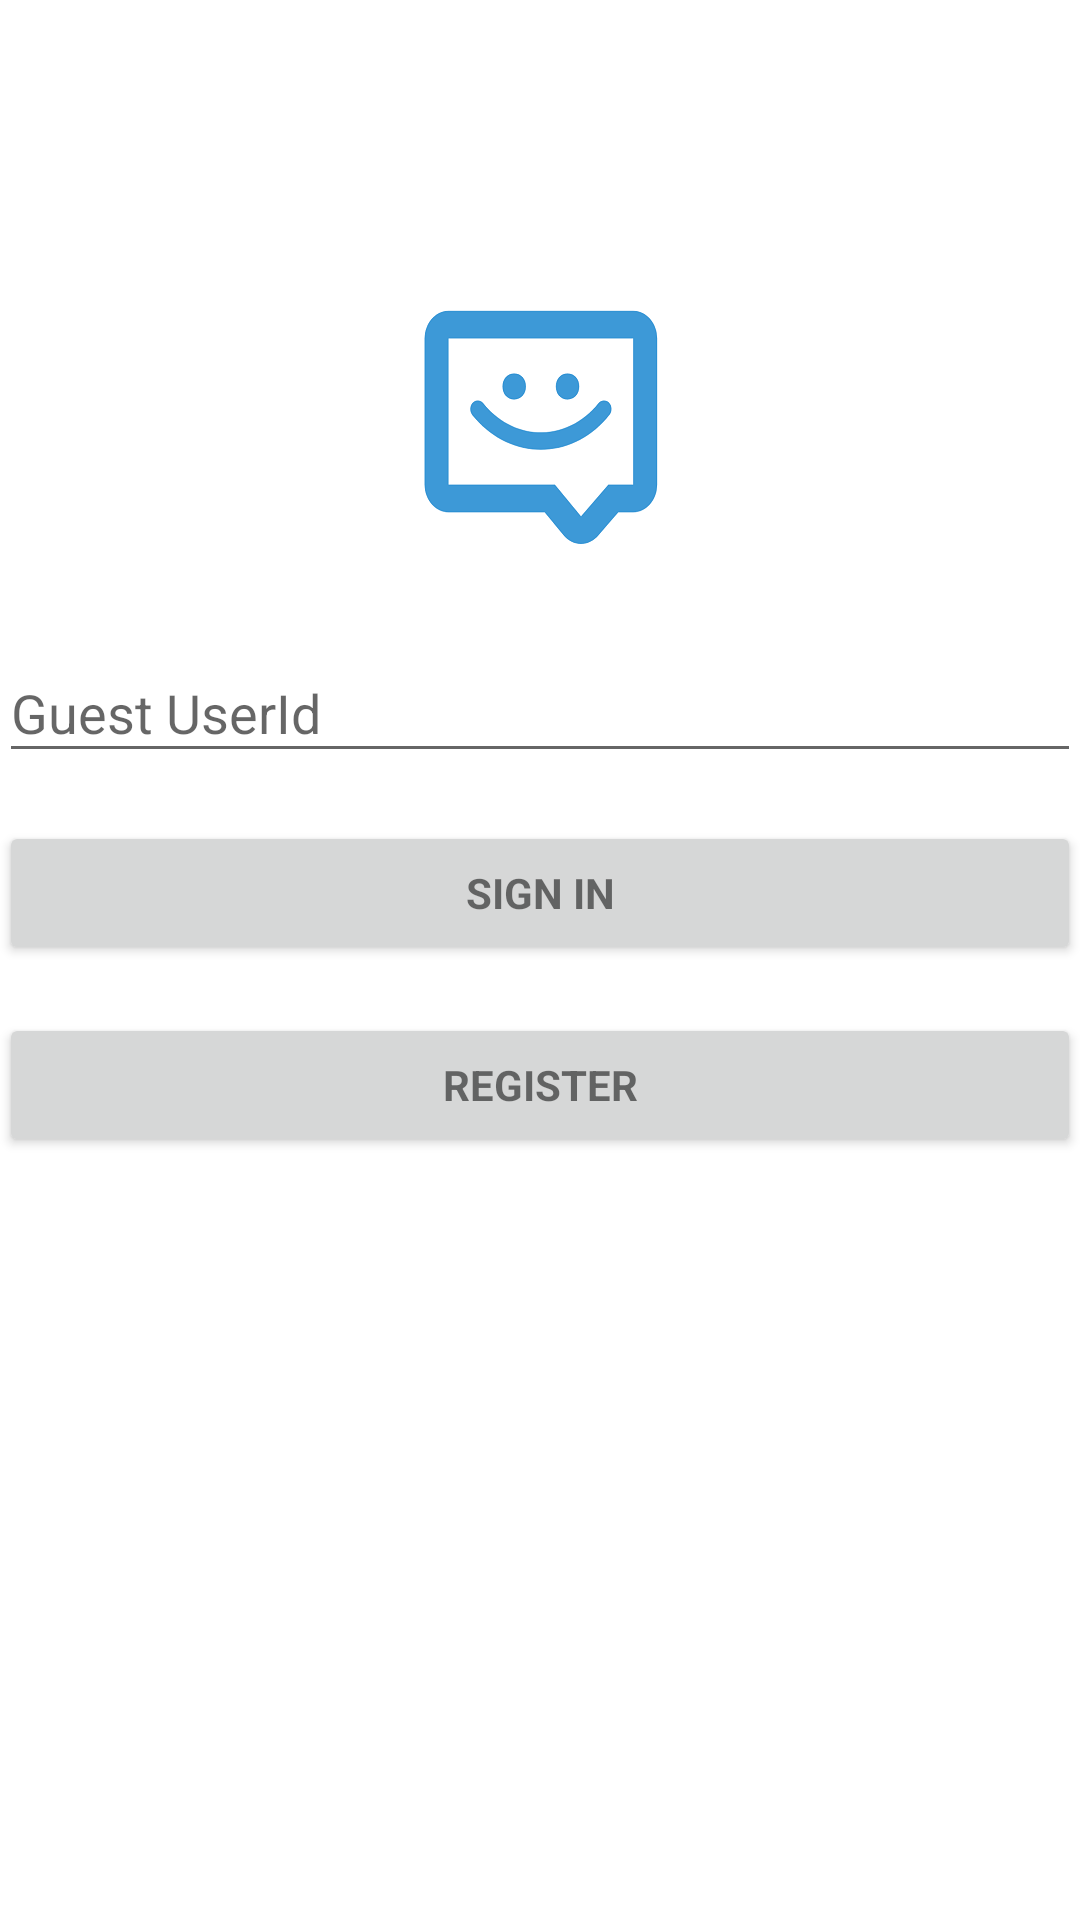

Icon click points for this 1080px×1920px phone screenshot, format point (x, y):
mqttchat: point (541, 427)
